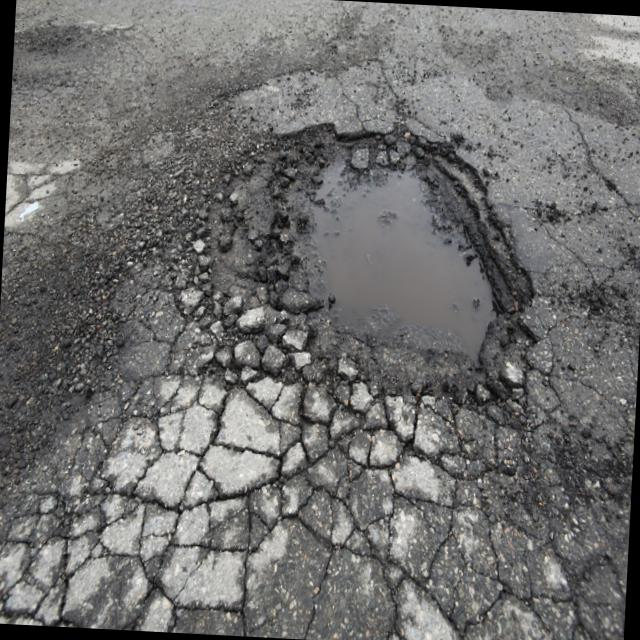Potholes: (208, 92, 582, 454)
